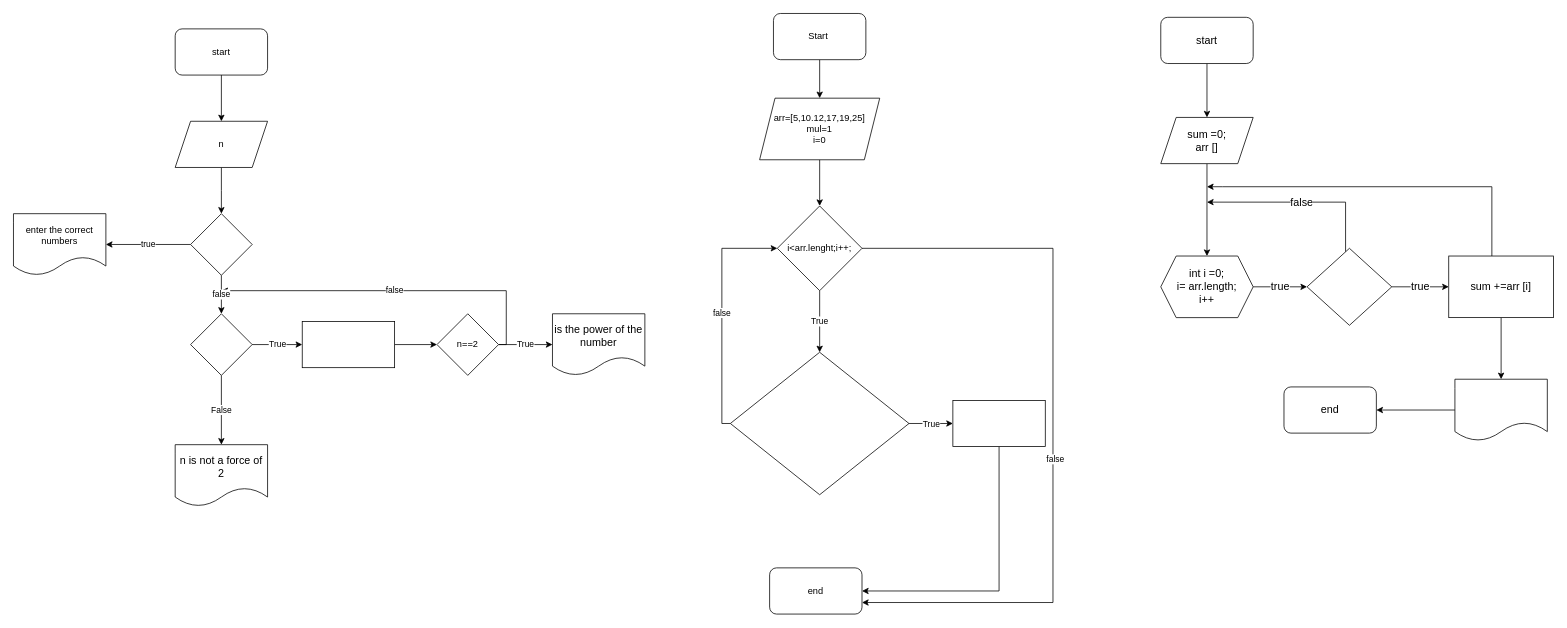
Image size: 1567x628. Some labels were removed from this diagram. Each missing label, with the centre of its shape:
"arr.lenght [i]<20&&arr.lenght [i]>1" goes at (x=819, y=423).
"arr[i] % 2 == 0" goes at (x=1349, y=286).
"mul=mul*i" goes at (x=998, y=423).
"n%2==0" goes at (x=221, y=344).
"n==2 || n<2" goes at (x=221, y=244).
"n=n/2" goes at (x=348, y=344).
"sum * sum" goes at (x=1500, y=409).
